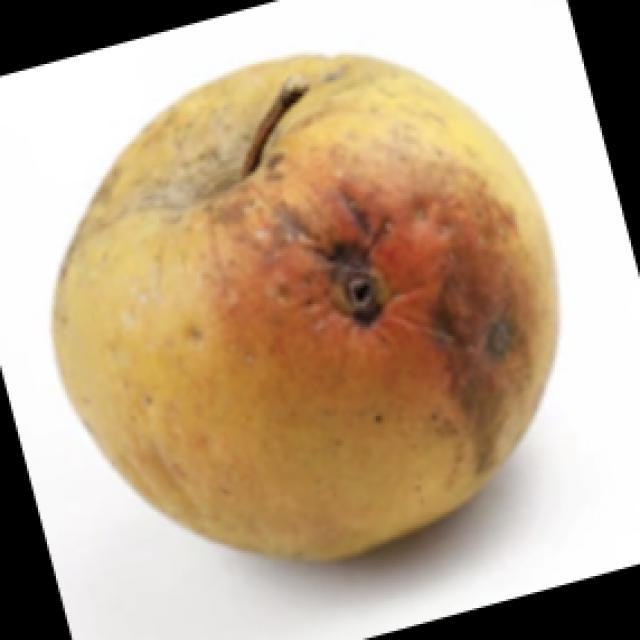Rotten: (33, 44, 555, 554)
